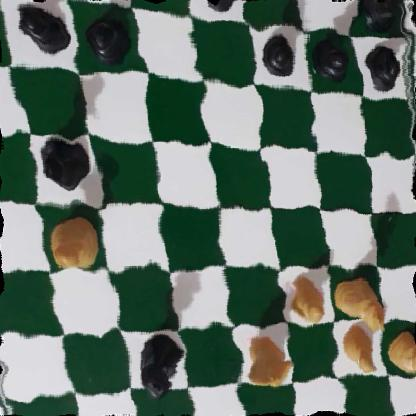black-bishop: (36, 133, 96, 193)
black-king: (187, 0, 246, 12)
black-pawn: (80, 6, 130, 69), (12, 0, 66, 57), (364, 38, 406, 92), (255, 28, 299, 77), (315, 35, 352, 84)
black-queen: (134, 330, 188, 401)
black-rook: (353, 0, 411, 35)
white-bishop: (48, 216, 103, 274)
white-king: (332, 278, 391, 335)
white-knight: (236, 331, 295, 388)
white-pawn: (335, 331, 382, 377), (284, 278, 326, 321), (390, 331, 416, 373)
